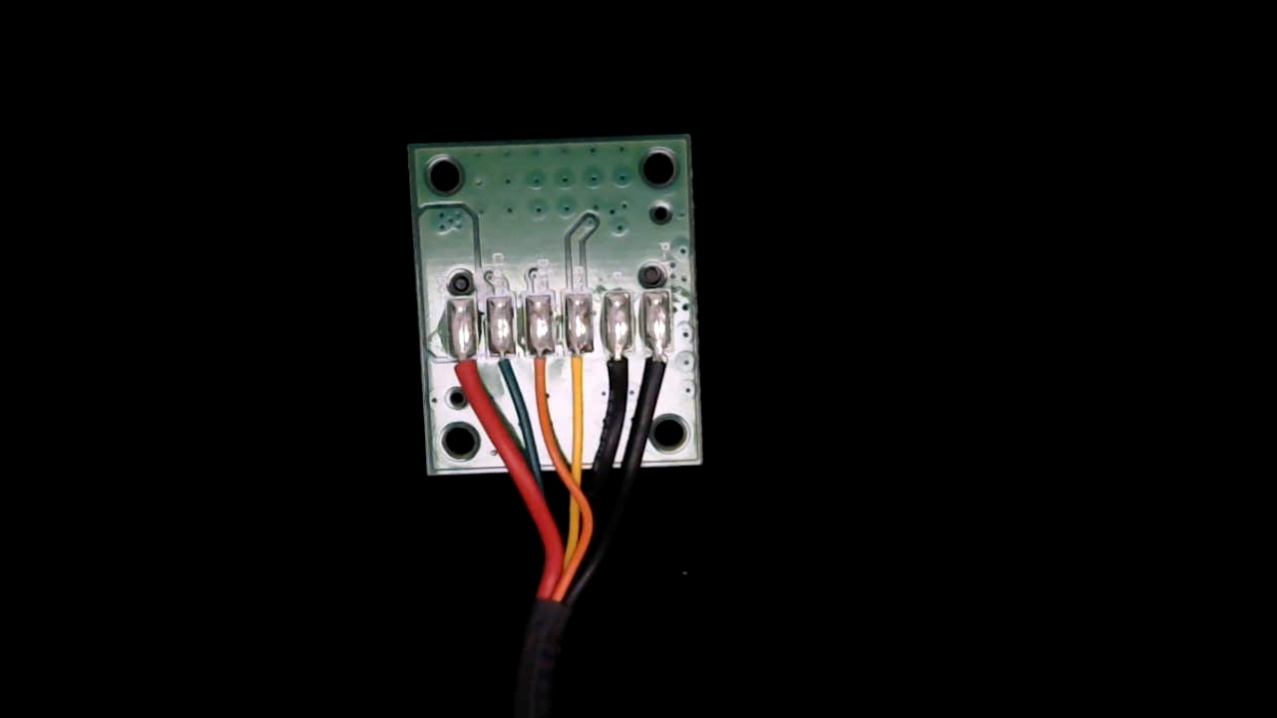Black: (600, 332, 635, 406)
Black1: (643, 328, 677, 396)
Green: (486, 333, 517, 393)
Orange: (526, 336, 557, 406)
Red: (446, 337, 481, 408)
Yellow: (564, 333, 598, 408)
